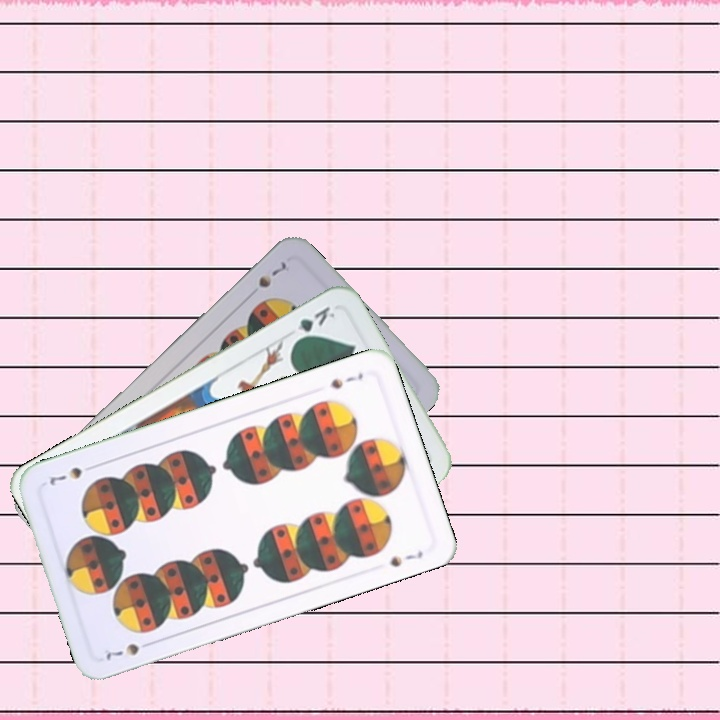GK: (289, 302, 338, 346)
S7: (101, 637, 157, 663), (254, 257, 293, 291), (326, 368, 366, 392)
